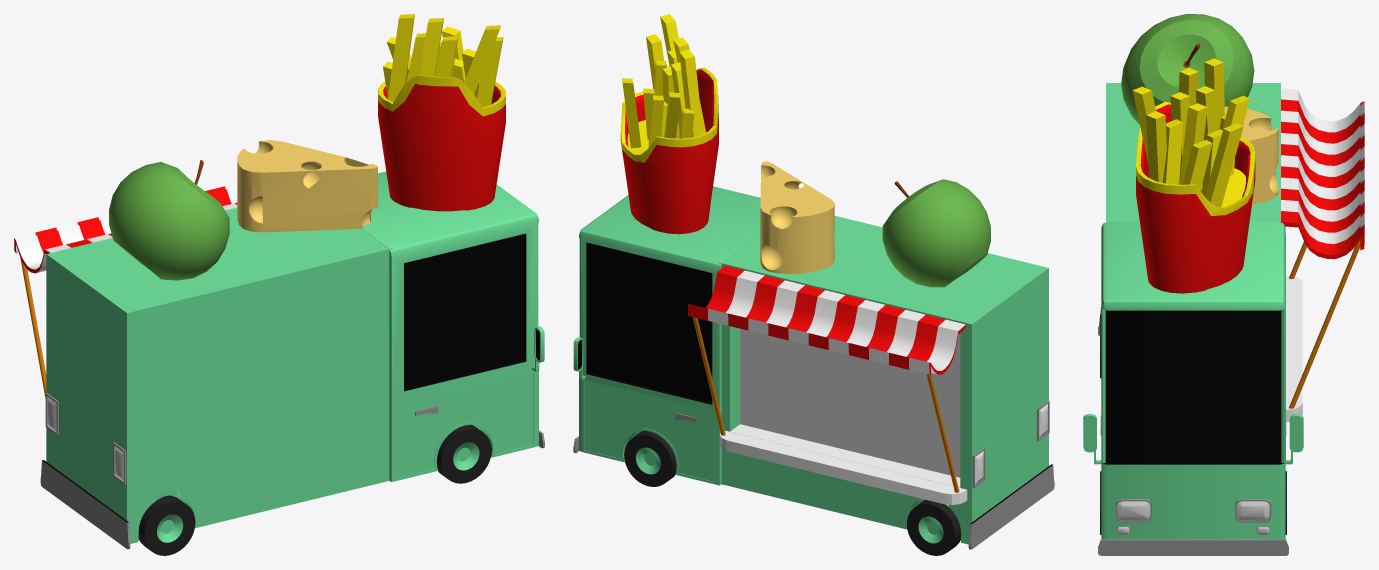
Rendered from truckfood_3.fbx.
3 renders of one model, left to right at view 1: azimuth 30°, elevation 25°; view 2: azimuth 150°, elevation 25°; view 3: azimuth 270°, elevation 25°, orthographic. The views are drawn at different scales.
Parts seen in each view (by area): view 1: truckfood_3, truckfood.001, truckfood_2, truckfood_1, truckfood_5, truckfood_4; view 2: truckfood_3, truckfood.001, truckfood_1, truckfood_2, truckfood_5, truckfood_4; view 3: truckfood_3, truckfood.001, truckfood_1, truckfood_2.
Part boxes in pixels (x1,y1,x2,y2): truckfood_3: (14,171,544,549); truckfood.001: (378,14,505,211); truckfood_2: (237,140,377,232); truckfood_1: (109,160,229,280); truckfood_5: (138,495,195,555); truckfood_4: (436,424,491,483); truckfood_3: (573,186,1054,549); truckfood.001: (620,14,718,234); truckfood_1: (882,179,990,287); truckfood_2: (760,161,834,273); truckfood_5: (906,499,960,555); truckfood_4: (624,430,676,486); truckfood_3: (1083,83,1364,555); truckfood.001: (1132,58,1255,293); truckfood_1: (1121,14,1254,124); truckfood_2: (1224,106,1278,204).
Bounding box in the file's own units: 1225 × 1209 × 660.
